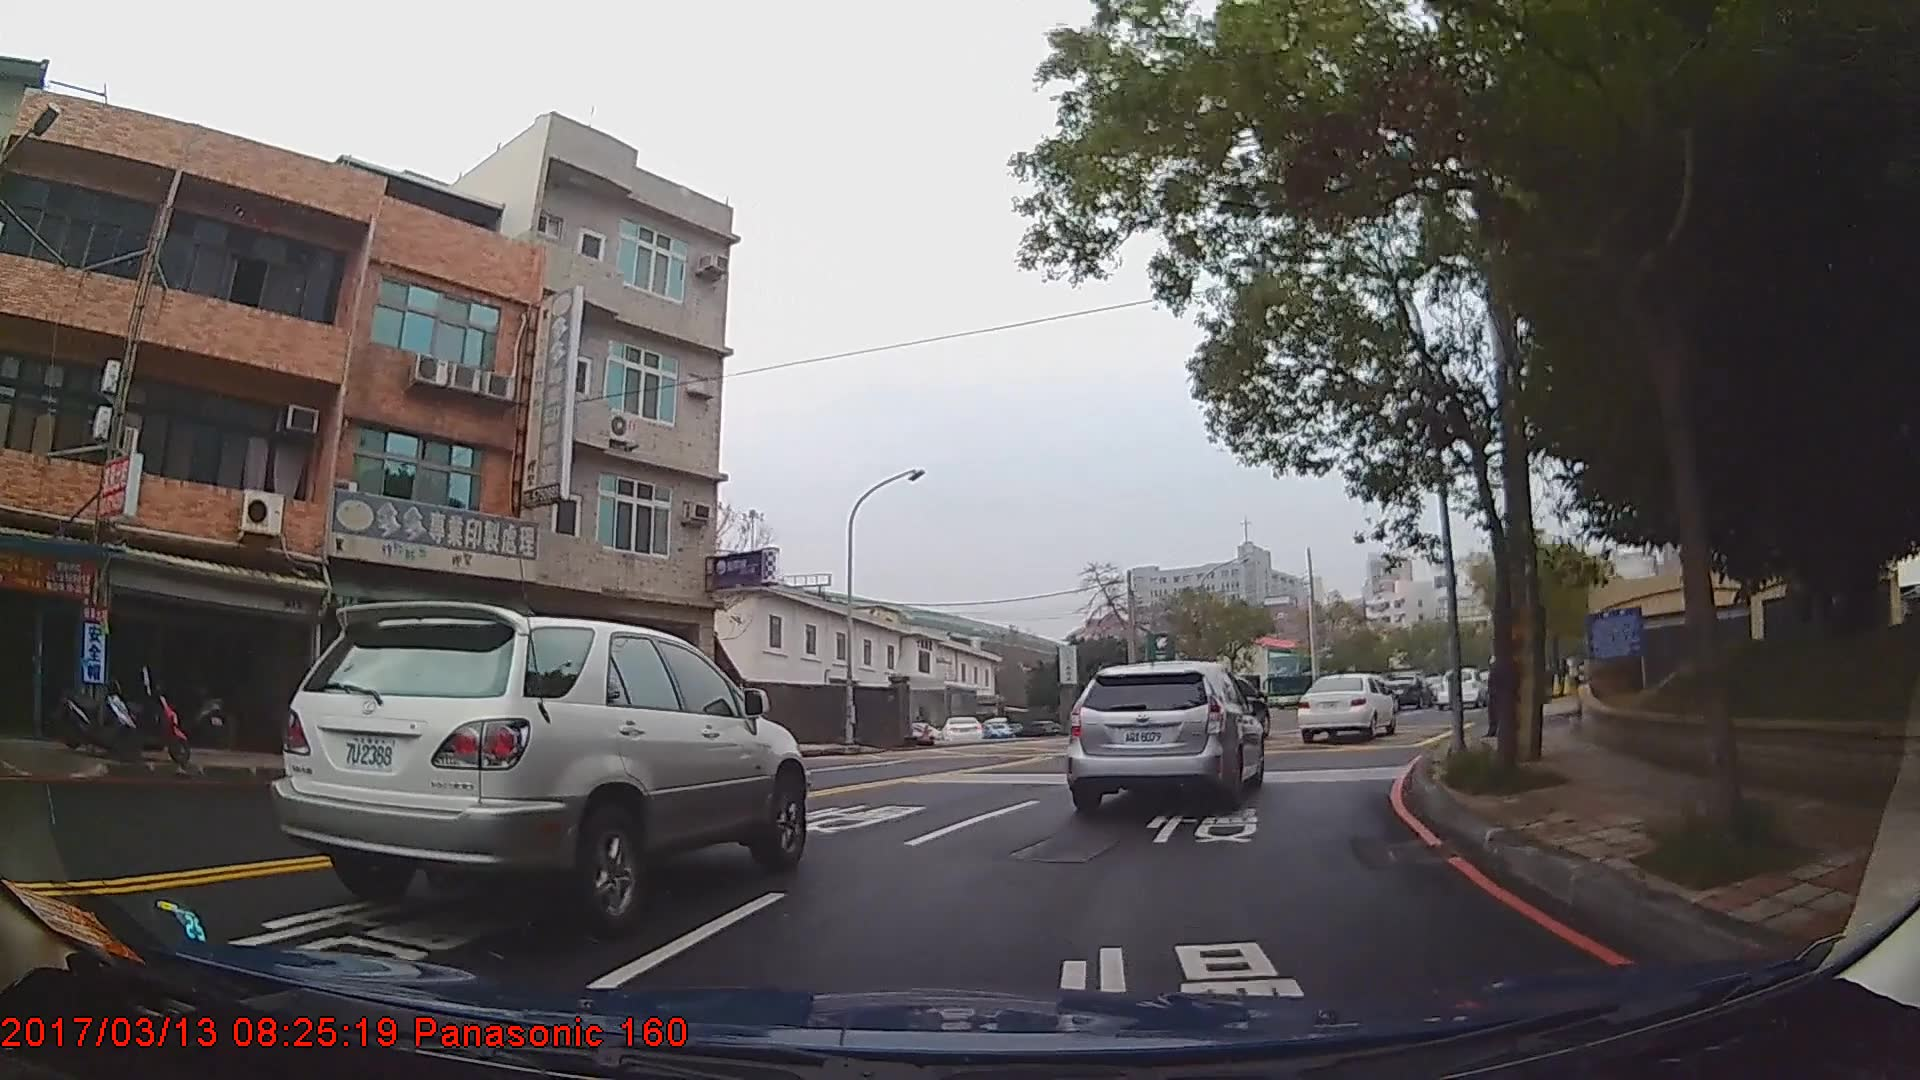vehicle: (268, 600, 808, 943), (1064, 657, 1265, 810), (1294, 673, 1396, 741), (1433, 666, 1487, 713), (938, 715, 982, 744), (1007, 717, 1062, 738)
